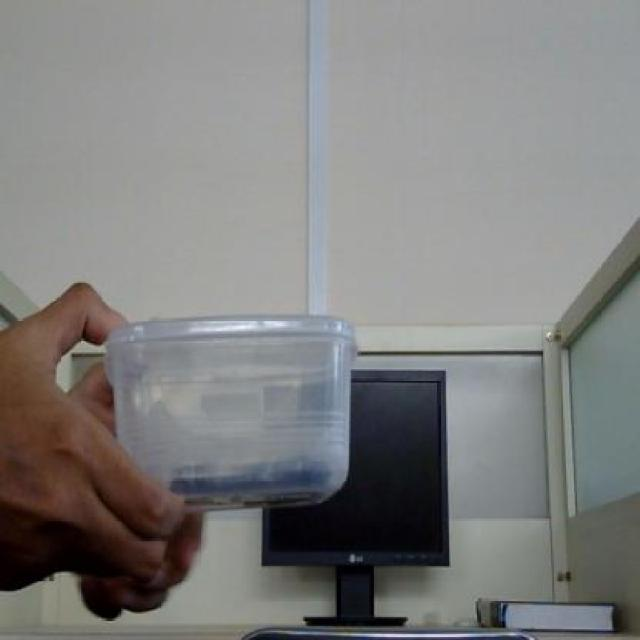Plastic: (105, 313, 360, 507)
